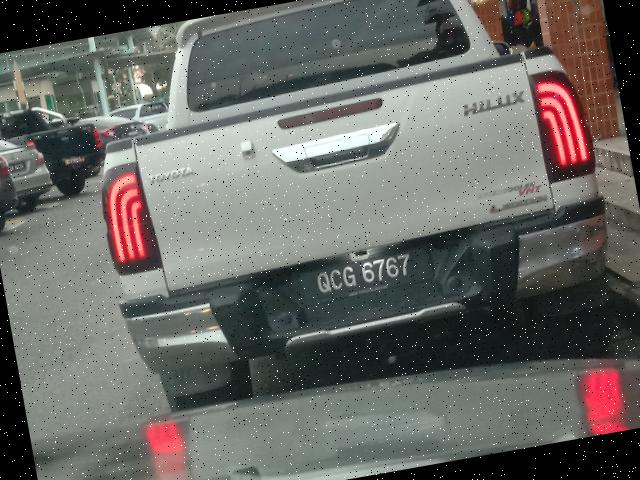License_Plate: (299, 247, 436, 307)
car: (70, 1, 640, 425)
